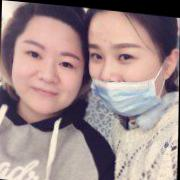NONE: (14, 33, 85, 117)
WRONG: (87, 26, 162, 115)
